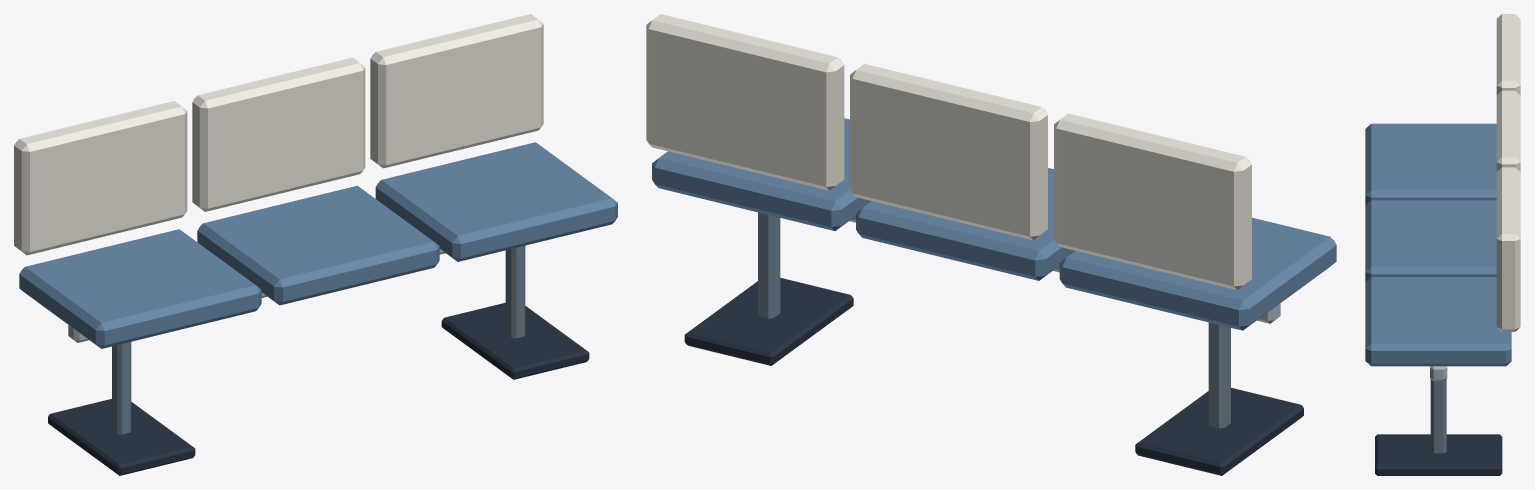
Rendered from lounge_02.glb.
3 renders of one model, left to right at view 1: azimuth 30°, elevation 25°; view 2: azimuth 150°, elevation 25°; view 3: azimuth 270°, elevation 25°, orthographic. The views are drawn at different scales.
Parts seen in each view (by area): view 1: BenchBack (×3), BenchSeat (×3), FloorFoot (×2), BeamFoot (×2); view 2: BenchBack (×3), BenchSeat (×3), FloorFoot (×2), BeamFoot (×2); view 3: BenchSeat (×3), BenchBack (×3), FloorFoot, BeamFoot, BenchBeam.
Boxes of the visible parts, x1,y1,x2,y2 form: BenchBack (×3): (14,14,543,255); BenchSeat (×3): (19,142,617,348); FloorFoot (×2): (48,302,589,475); BeamFoot (×2): (112,245,525,434); BenchBack (×3): (646,14,1251,289); BenchSeat (×3): (652,118,1336,330); FloorFoot (×2): (684,278,1303,475); BeamFoot (×2): (758,212,1230,428); BenchSeat (×3): (1365,123,1511,366); BenchBack (×3): (1496,14,1520,331); FloorFoot: (1375,434,1502,475); BeamFoot: (1430,379,1446,453); BenchBeam: (1430,366,1447,381).
Bounding box in the file's own units: 1.67 × 0.8725 × 0.4875.
